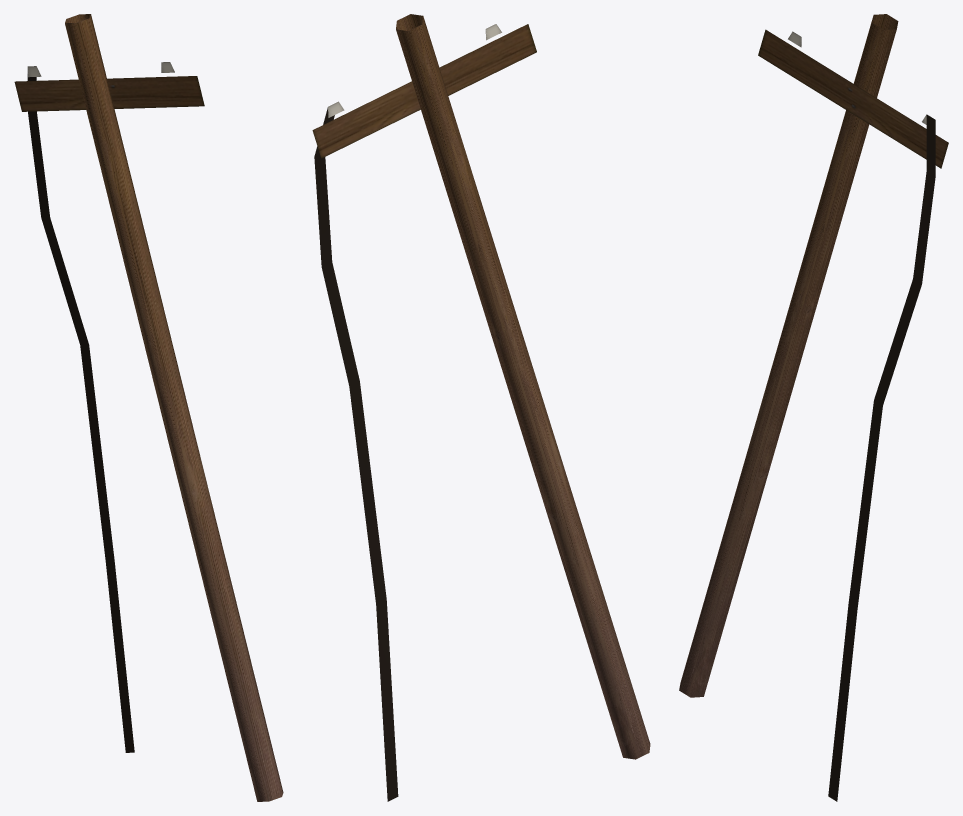
The model's file is Pole.obj.
3 renders of one model, left to right at view 1: azimuth 90°, elevation 25°; view 2: azimuth 150°, elevation 25°; view 3: azimuth 270°, elevation 25°, orthographic. The views are drawn at different scales.
Visible parts, largest first — view 1: Pole; view 2: Pole; view 3: Pole.
Boxes of the visible parts, x1,y1,x2,y2 form: Pole: [14, 14, 283, 801]; Pole: [312, 14, 650, 801]; Pole: [679, 14, 948, 801].
Bounding box in the file's own units: 6.02 × 22.74 × 7.3.
